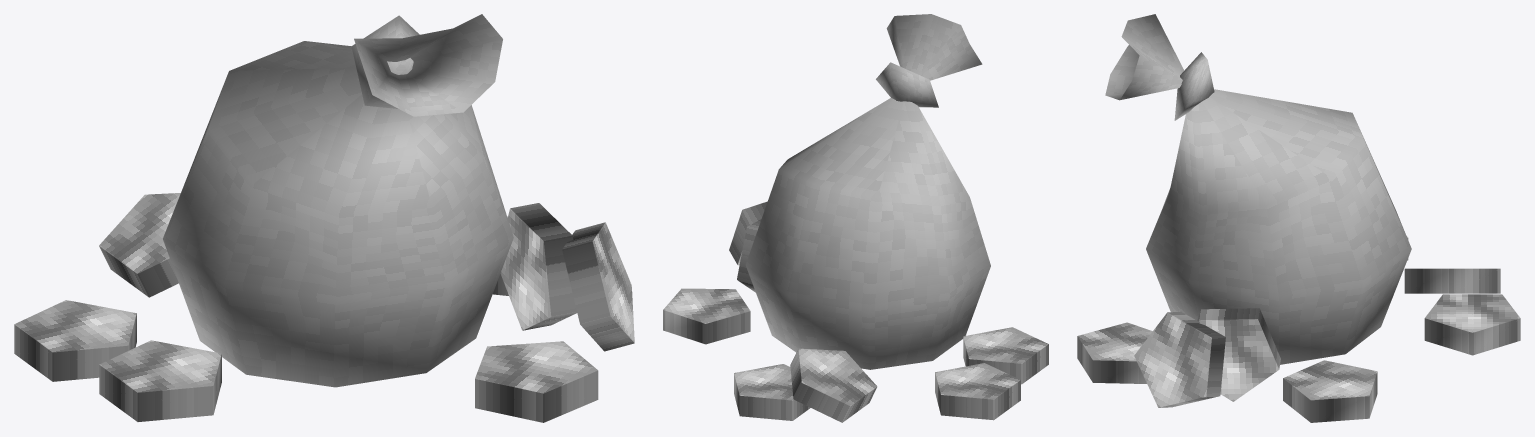
File: goldbag.obj
The picture shows the model from 3 angles, left to right: view 1: azimuth 30°, elevation 25°; view 2: azimuth 150°, elevation 25°; view 3: azimuth 270°, elevation 25°; orthographic projection. The views are drawn at different scales.
Visible parts, largest first — view 1: Cylinder01, Duplicate07, Duplicate03, Duplicate02, Duplicate05, Duplicate06, Duplicate01, Cylinder03; view 2: Cylinder01, Duplicate01, Duplicate04, Duplicate02, Duplicate03, Cylinder04, Cylinder03, Duplicate06, Duplicate05; view 3: Cylinder01, Duplicate06, Cylinder04, Duplicate04, Duplicate05, Duplicate07, Duplicate01, Cylinder03.
Boxes of the visible parts, x1,y1,x2,y2 form: Cylinder01: (163,14,513,387); Duplicate07: (475,341,598,422); Duplicate03: (99,340,221,421); Duplicate02: (14,300,136,381); Duplicate05: (500,203,577,330); Duplicate06: (562,222,634,351); Duplicate01: (99,193,180,297); Cylinder03: (351,15,419,108); Cylinder01: (745,14,990,369); Duplicate01: (790,348,877,422); Duplicate04: (663,288,750,344); Duplicate02: (935,363,1020,420); Duplicate03: (963,327,1048,384); Cylinder04: (734,364,810,420); Cylinder03: (876,62,938,107); Duplicate06: (729,201,767,265); Duplicate05: (737,219,761,292); Cylinder01: (1105,14,1411,364); Duplicate06: (1134,312,1225,407); Cylinder04: (1424,294,1520,355); Duplicate04: (1283,360,1377,422); Duplicate05: (1197,308,1280,401); Duplicate07: (1077,322,1152,383); Duplicate01: (1404,268,1500,293); Cylinder03: (1174,52,1214,120).
Size of the model in its own units: 7.17 by 5.71 by 7.19.
